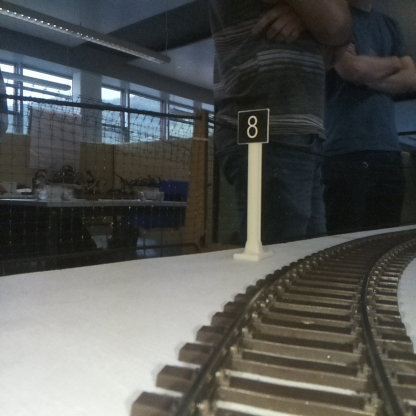black-info-8: (239, 108, 267, 258)
